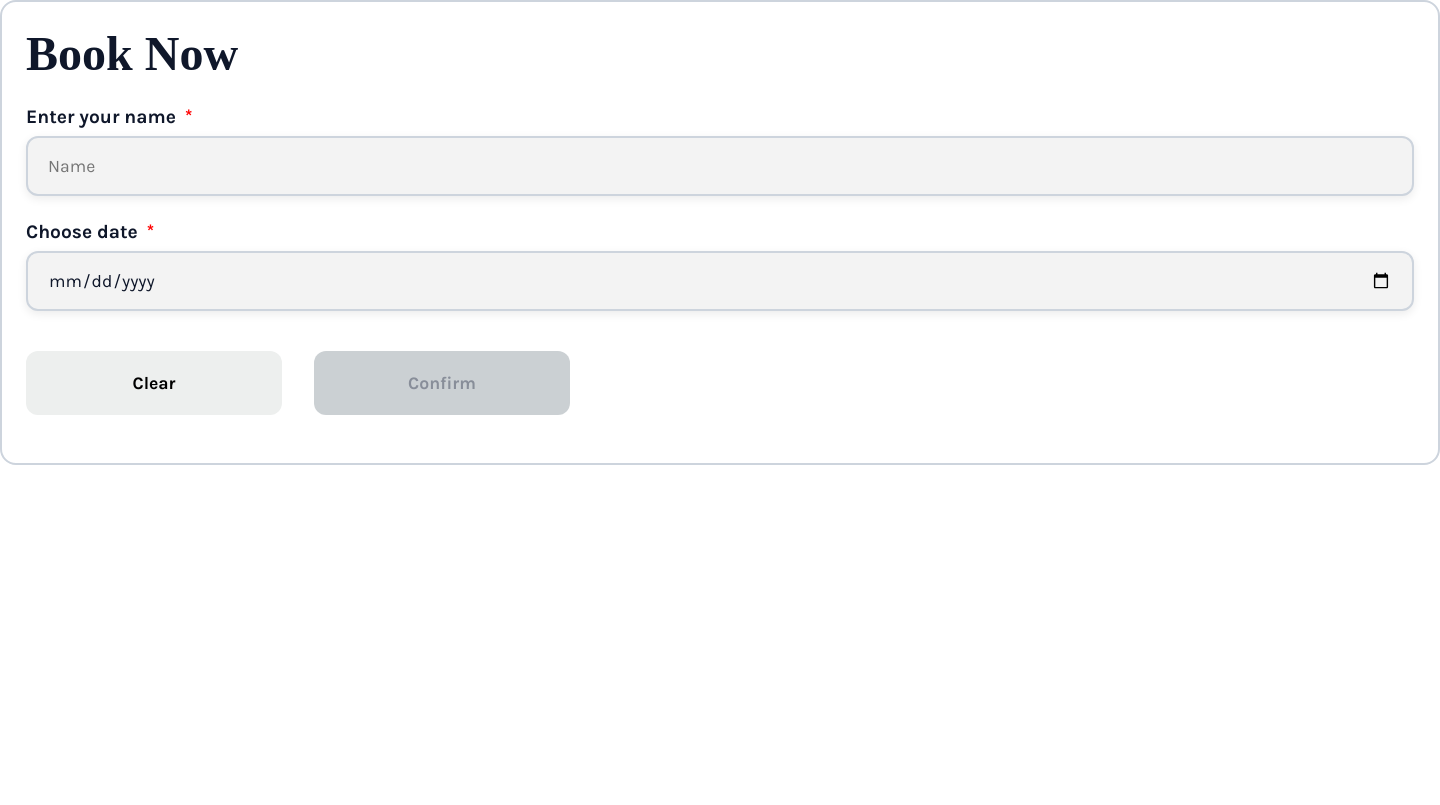
it: shows guest and occasion fields after selecting a time
Step 1. Type "2099-06-10" into the date field labelled "Choose date *" → (720,281), box [26,251,1414,311]
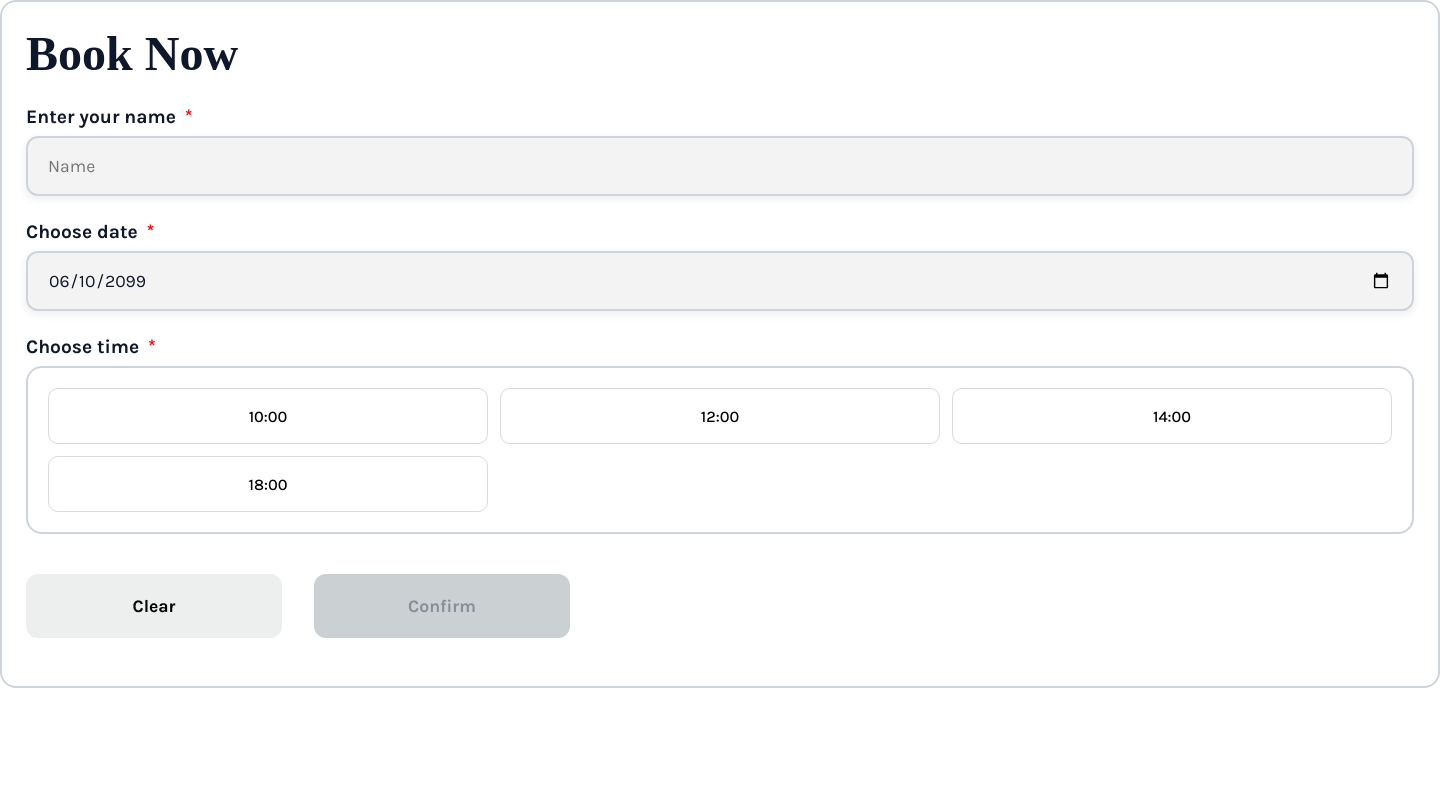
Step 2. Click the button "18:00" → (268,484), box [48,456,488,512]
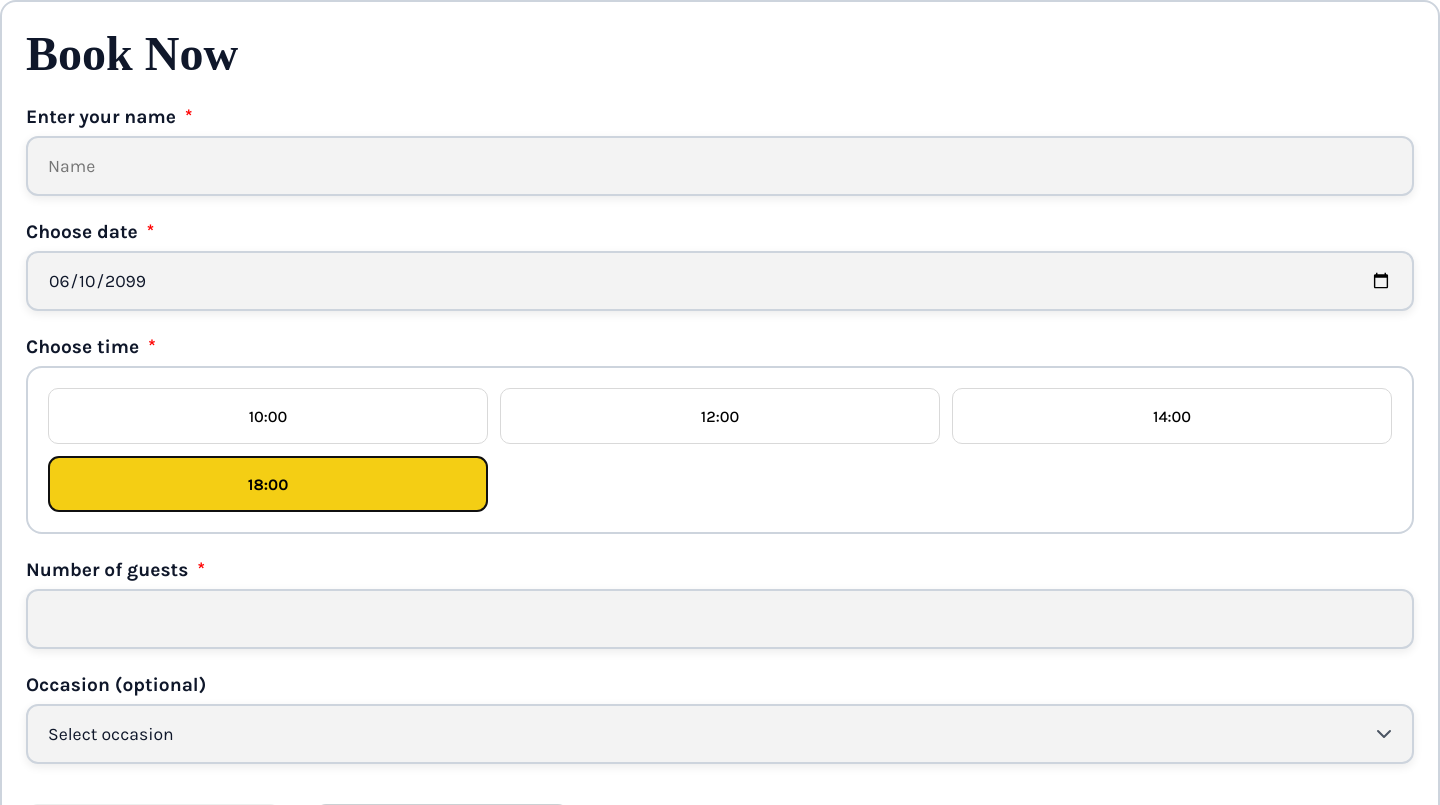
Result: the number field labelled "Number of guests *" is shown at [26,589,1414,649]
Result: the dropdown labelled "Occasion (optional)" is shown at [26,704,1414,764]
